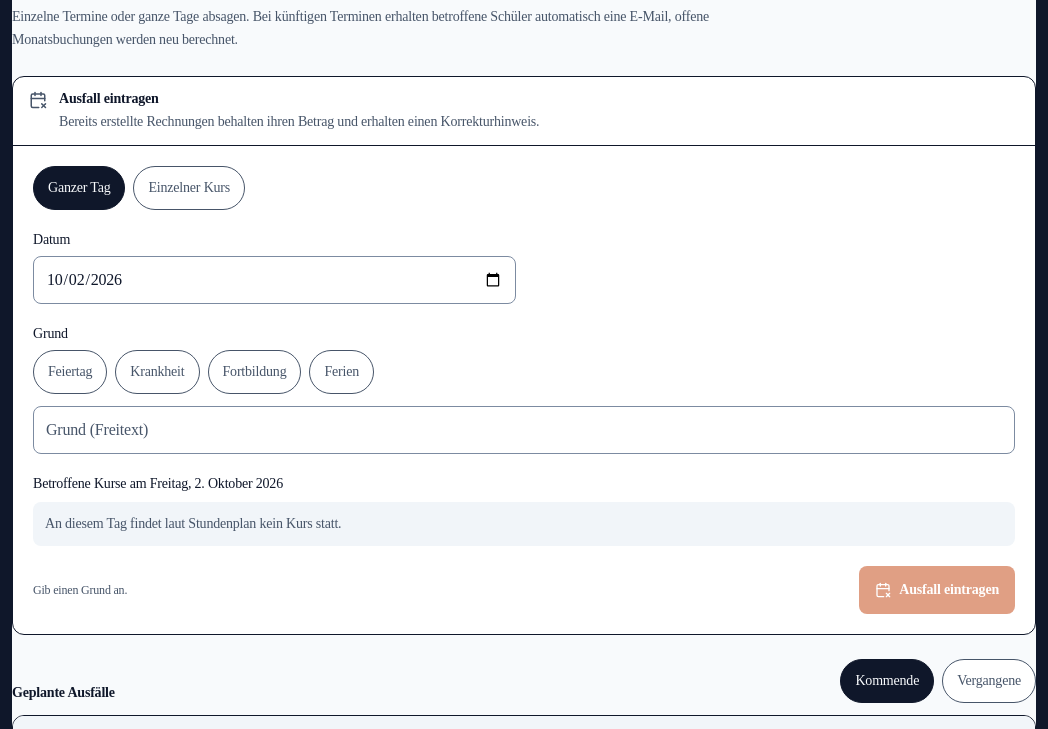
Test: whole day: preselects the courses running that weekday and saves them together
The image size is (1048, 729).
Type "2099-10-05" into the date field labelled "Datum" at (274,280), box [33,256,516,304]
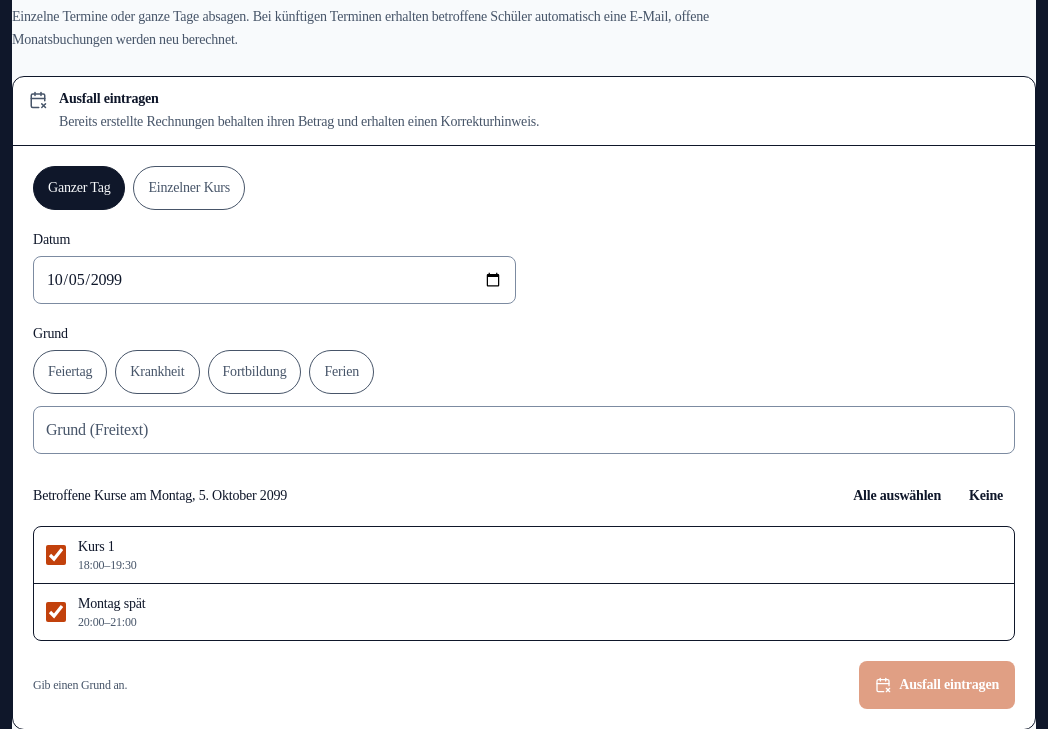
Expected: the button "Ausfall eintragen" is disabled, [859,661,1015,709]
Expected: the number of checkboxes is 2, [46,545,66,565]; [46,602,66,622]
Click the button "Feiertag" at (70,372), box [33,350,107,394]
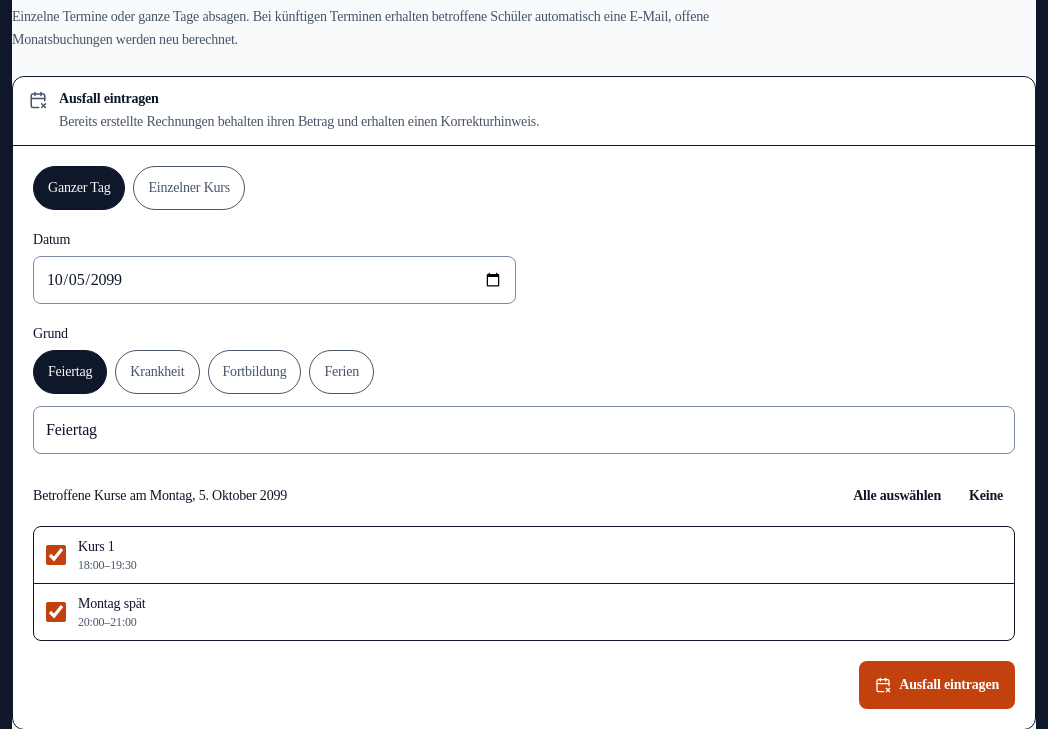
Click the button "Ausfall eintragen" at (937,685), box [859,661,1015,709]
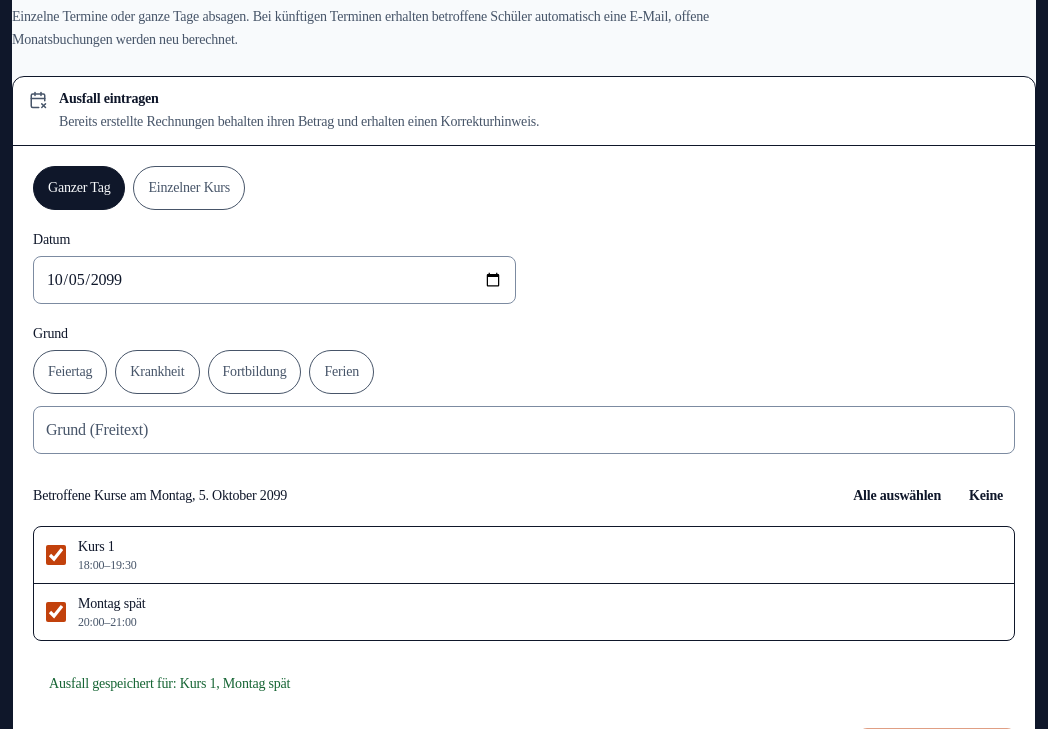
Expected: the message shows "Kurs 1, Montag spät", [49,676,290,691]
